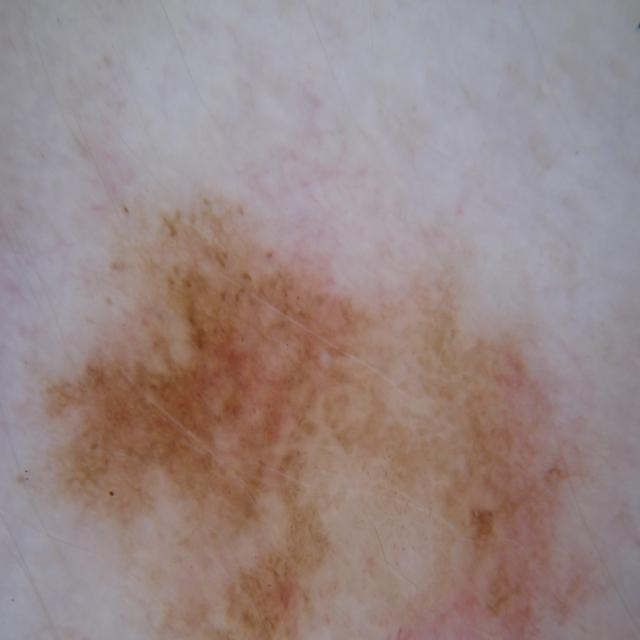Melanoma: (41, 174, 566, 640)
